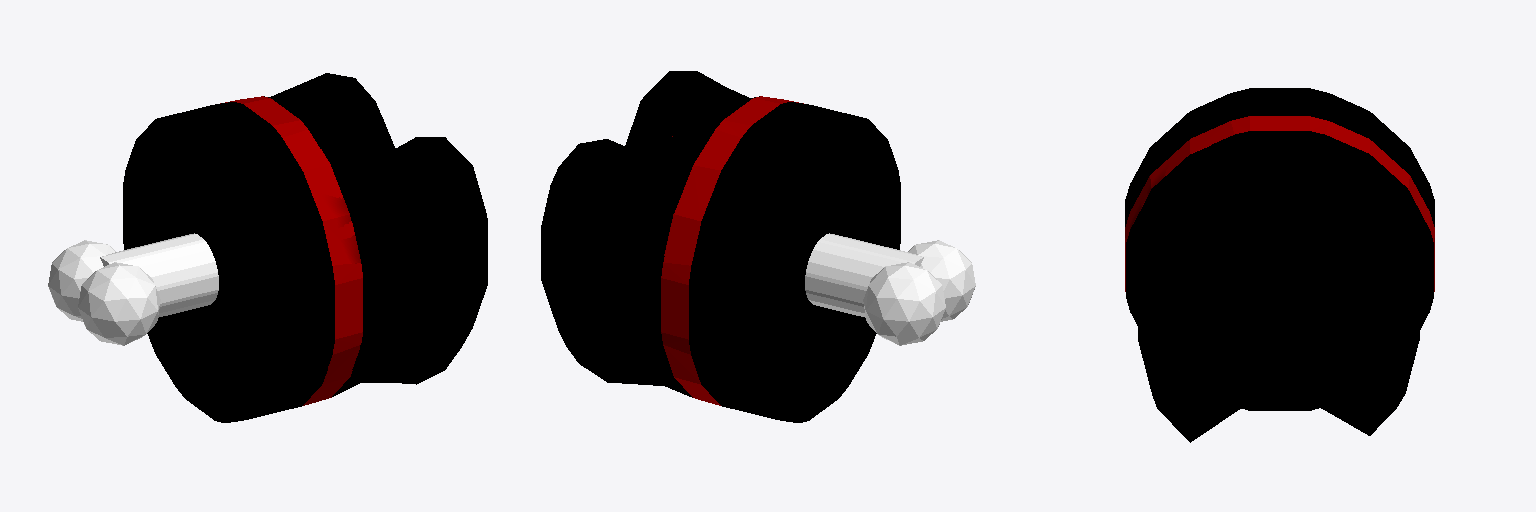
3 views of the same model, side by side, from view 1: azimuth 30°, elevation 25°; view 2: azimuth 150°, elevation 25°; view 3: azimuth 270°, elevation 25° (orthographic).
Parts seen in each view (by area): view 1: Mball.006; view 2: Mball.006; view 3: Mball.006.
Boxes of the visible parts, x1=… form: Mball.006: x1=48, y1=73, x2=487, y2=422; Mball.006: x1=541, y1=71, x2=975, y2=422; Mball.006: x1=1125, y1=88, x2=1434, y2=442.
Size of the model in its own units: 0.7695 by 0.5551 by 0.5551.
Materials: 1 (1 with a texture image).